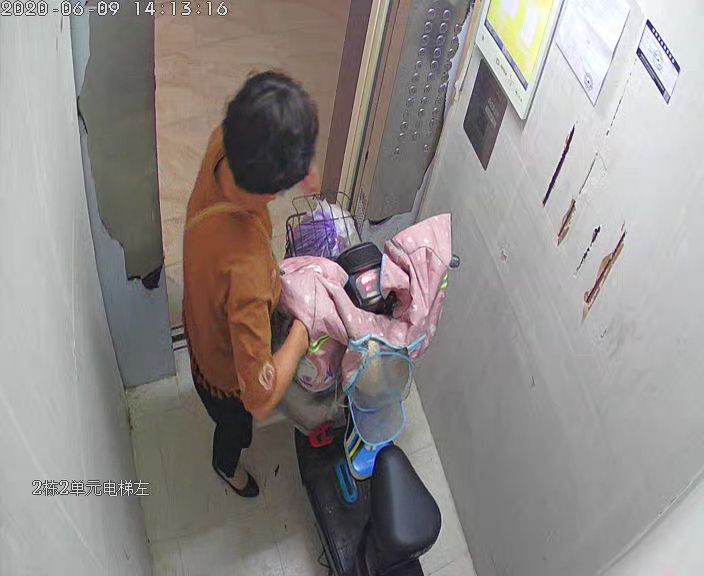Electric-bicycle: (295, 202, 456, 574)
